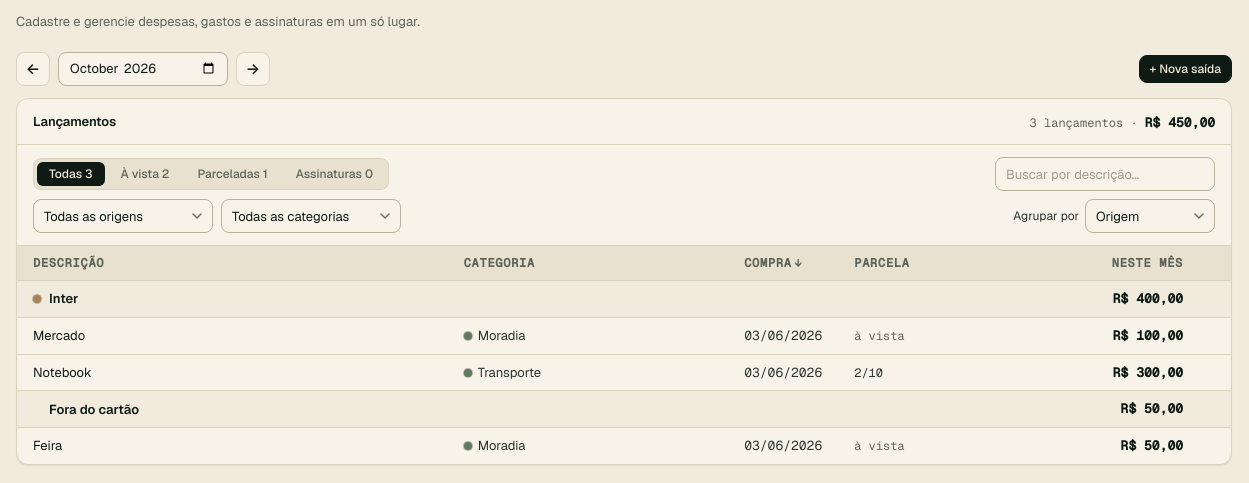
SaidasPage — agrupar por (RF-DES-14) › sem agrupamento: sem seções, com Categoria e Origem, e a origem diz cartão ou forma
Expected: the text "Moradia" is shown, [464,326,525,346]
Select "Nenhum" in the dropdown labelled "Agrupar por" at (1150, 216), box [1085,199,1215,233]
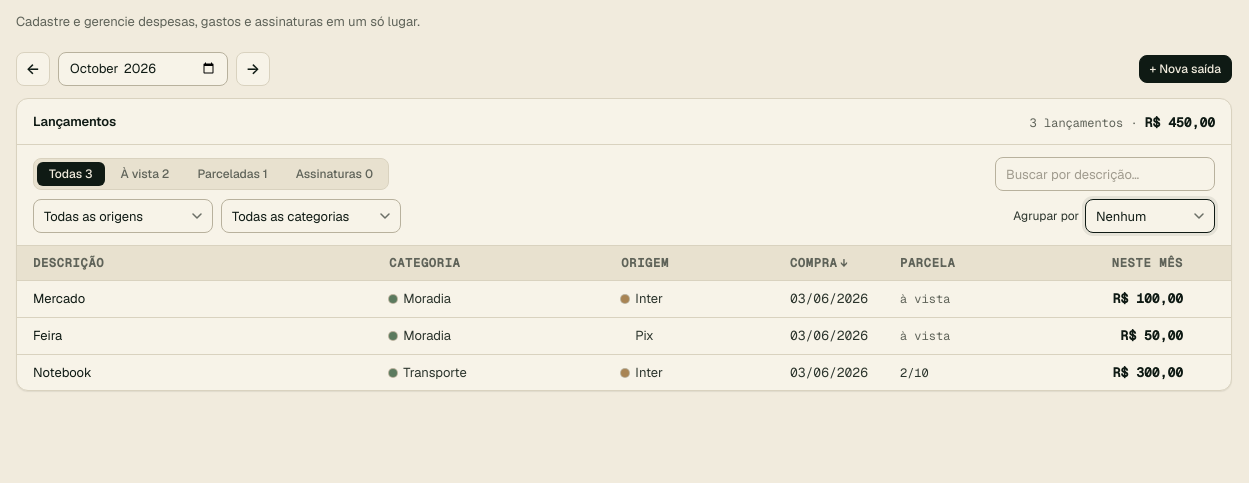
Expected: the text "Pix" is shown, [635,327,654,344]
Expected: the text "Inter" is shown, [621,289,663,309]
